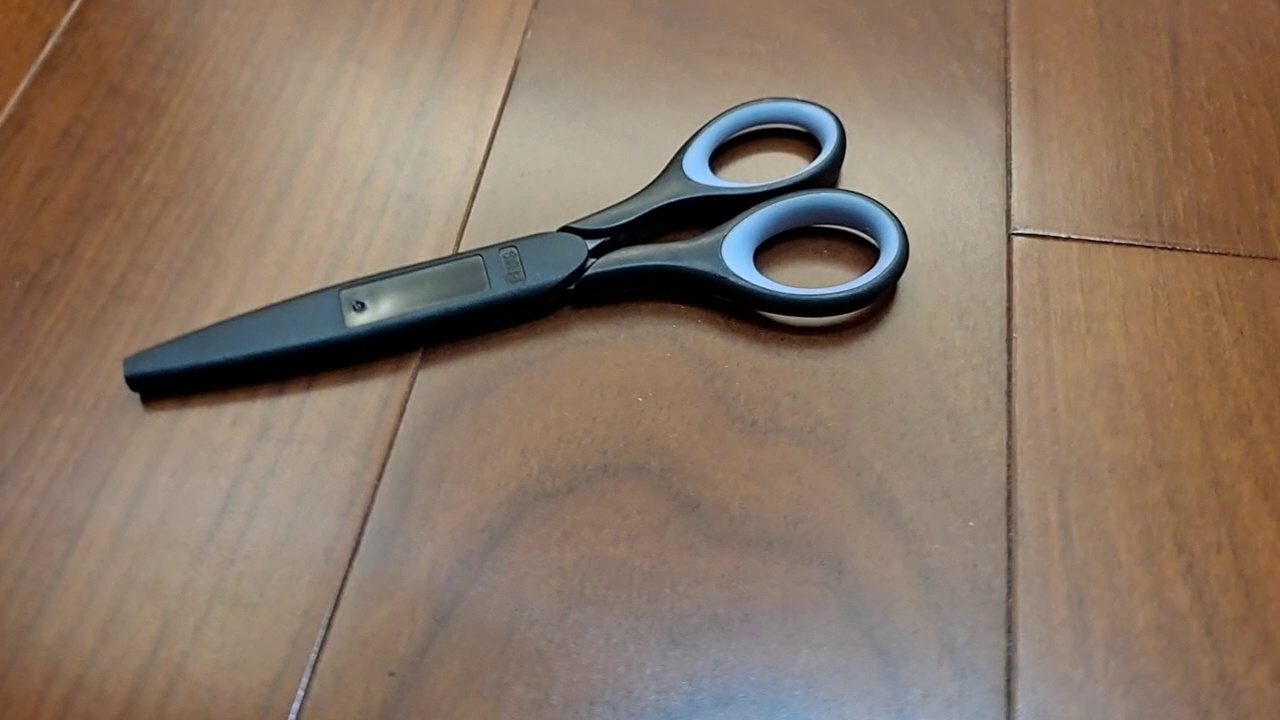scissors: (119, 95, 911, 407)
